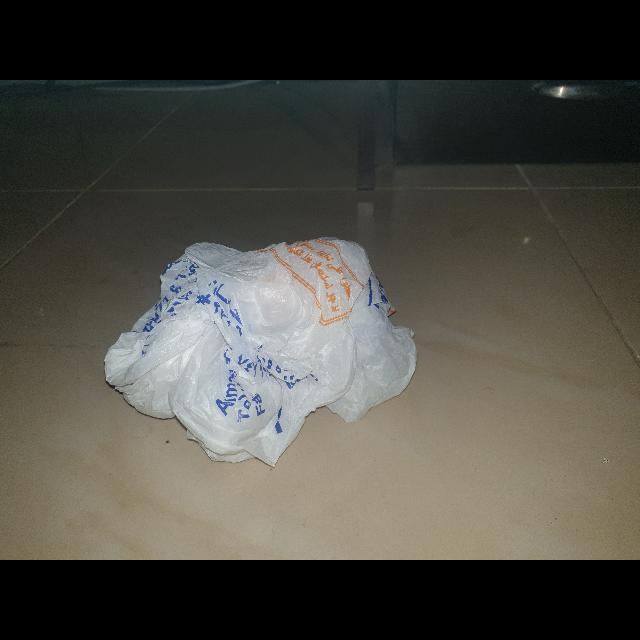plastic_bag: (101, 238, 426, 470)
